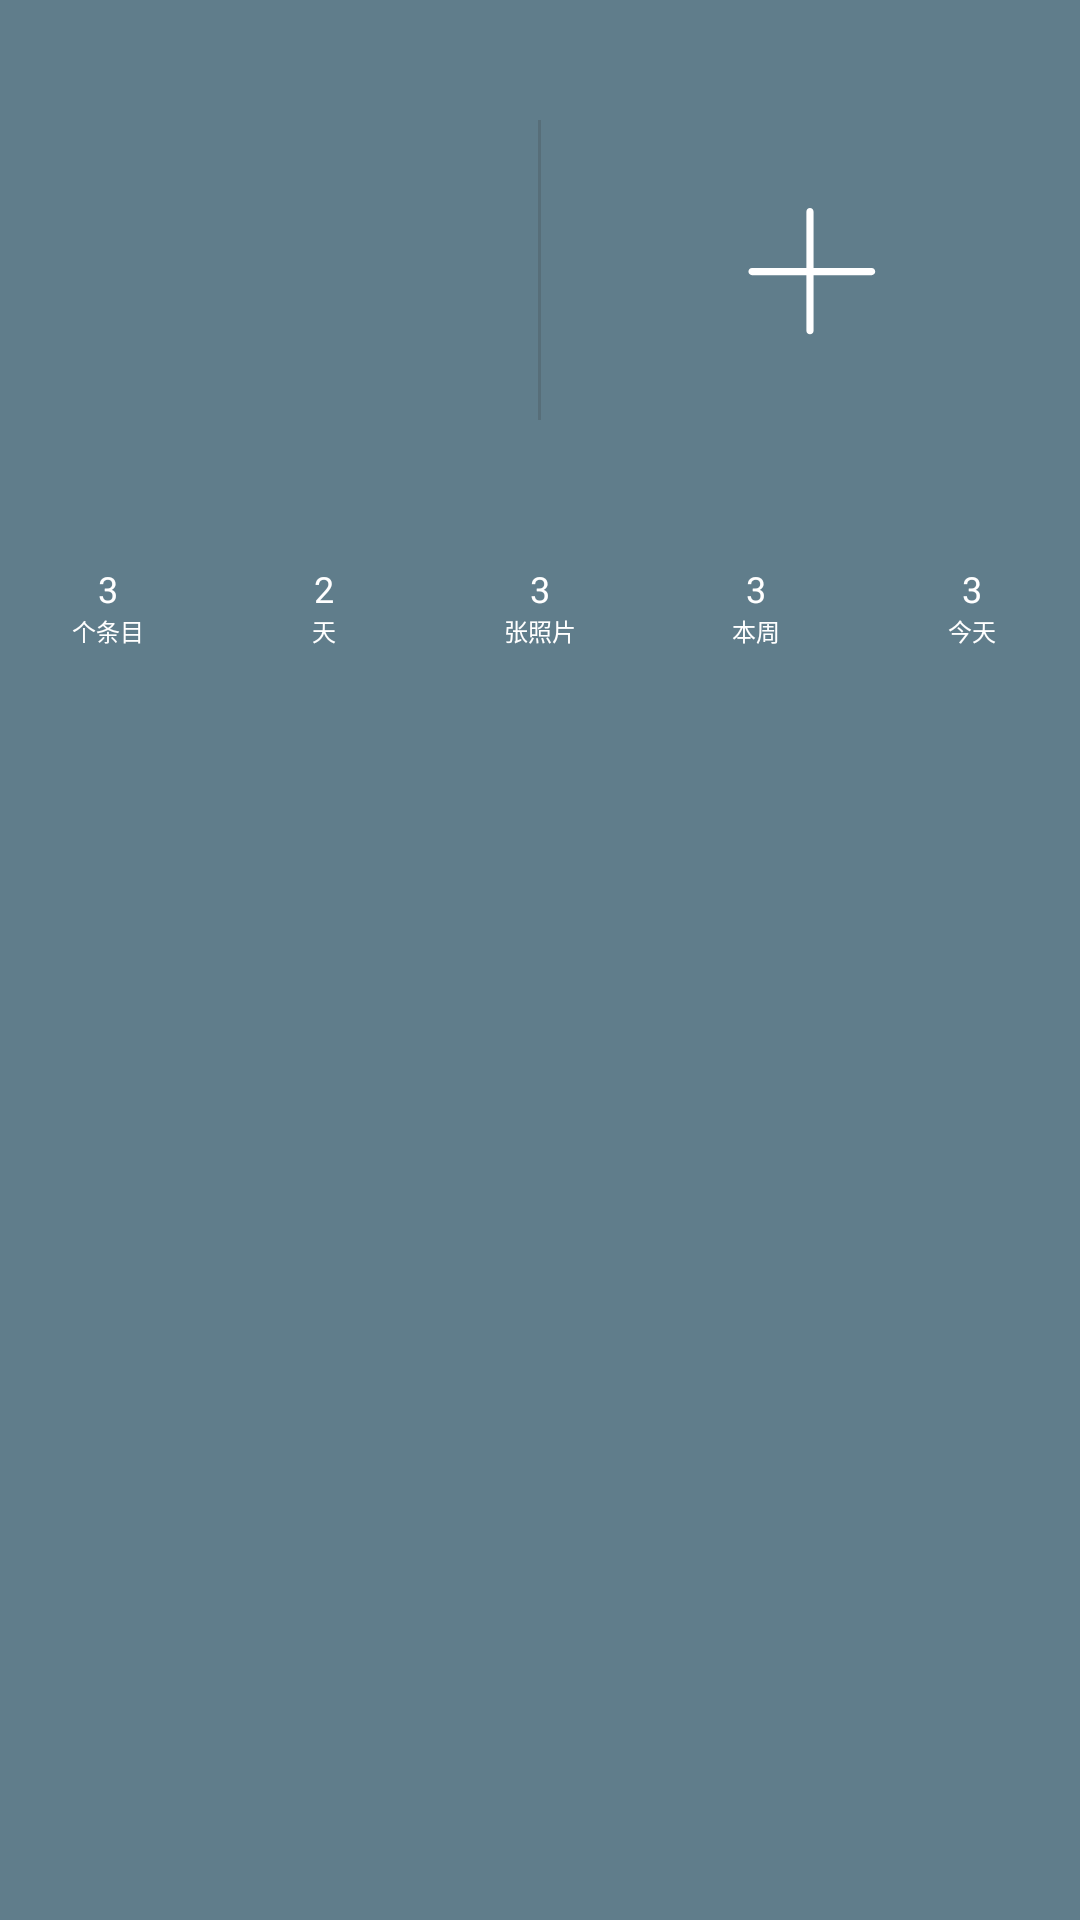

Screen size 1080 × 1920. Icon name, then its box in pixels as {"x1": x1, "y1": y1, "x2": x2, "y2": y2}:
add: {"x1": 748, "y1": 208, "x2": 876, "y2": 335}
